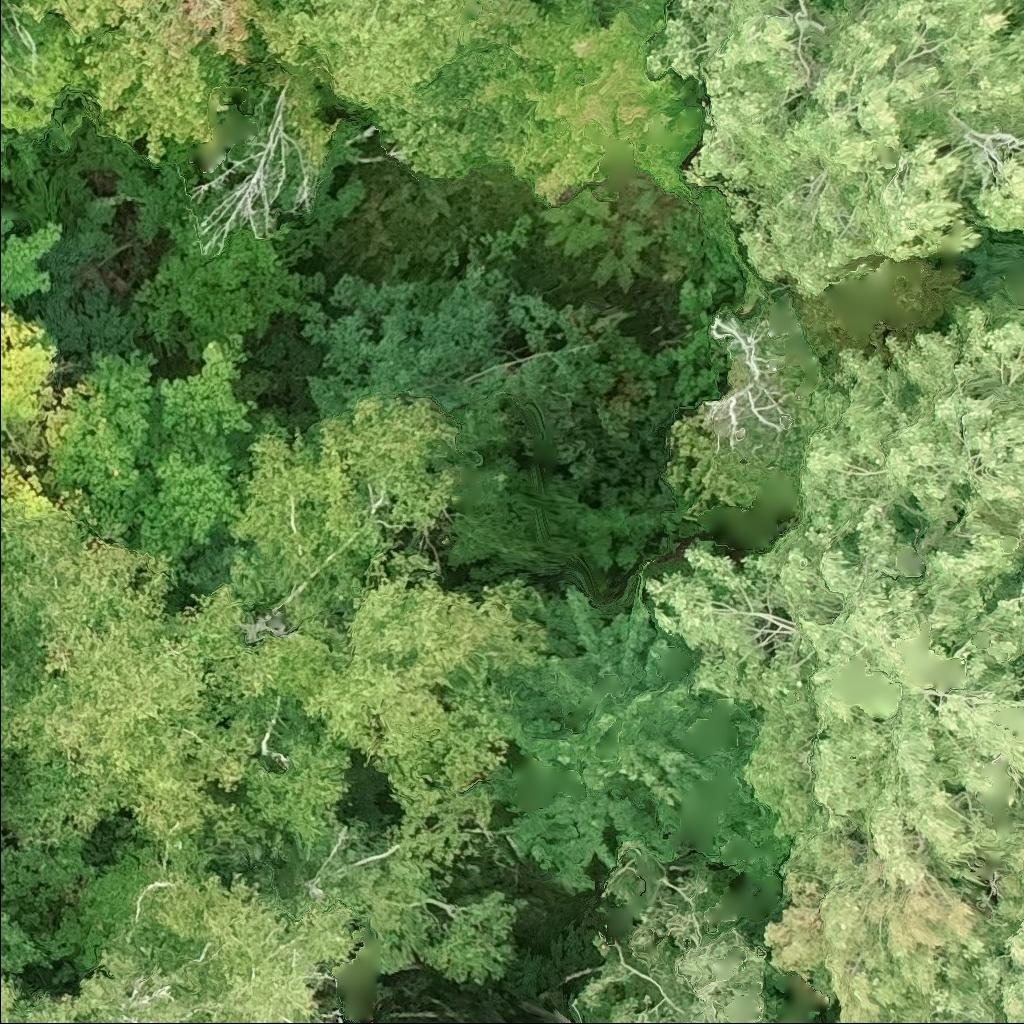crown: (0, 512, 290, 859), (275, 534, 554, 816), (222, 393, 464, 624), (73, 833, 367, 1023), (243, 701, 355, 860), (0, 0, 88, 134), (0, 215, 70, 300), (0, 968, 82, 1023), (0, 642, 23, 791)
